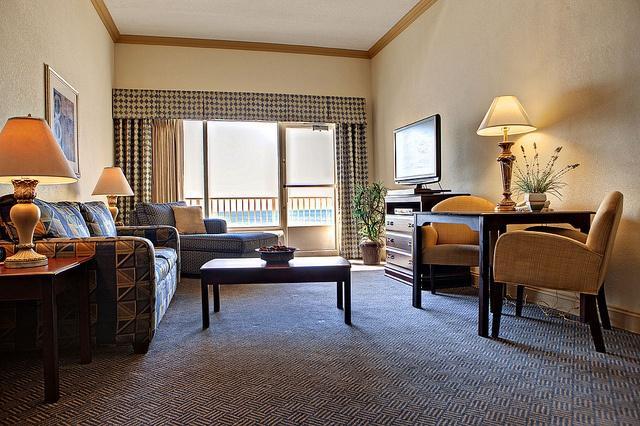AIO PC-Monitor-TV: (392, 113, 442, 190)
Meja: (199, 254, 352, 331), (409, 209, 595, 242)
